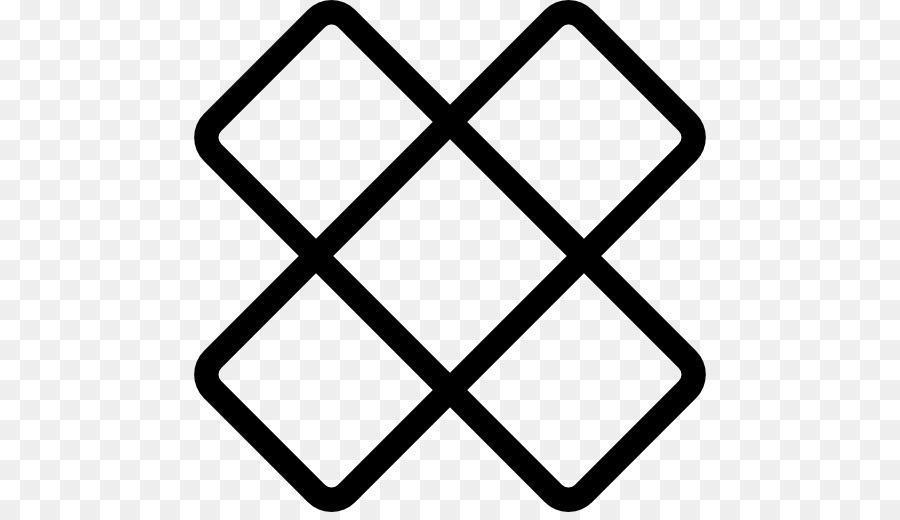bandage: (196, 0, 705, 508)
